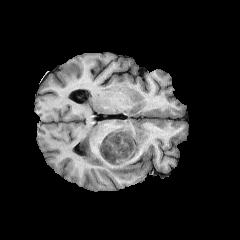glioma: (80, 116, 148, 179)
